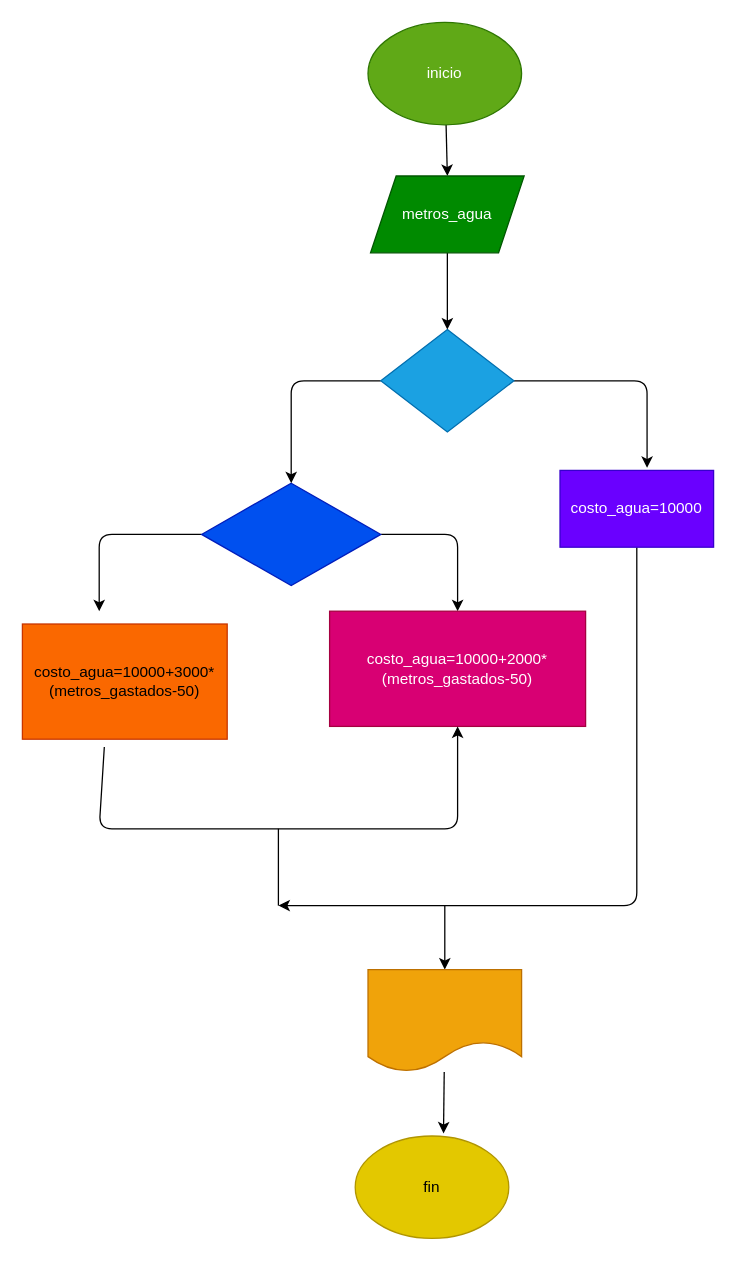
The diagram is 736 pixels wide and 1261 high, and some of its shapes have lost their labels. The box of each missing label's shape, as (x1, y1, x2, y2) in pixels:
costo_agua: (367, 968, 522, 1072)
costo_agua<=50: (380, 328, 514, 432)
metros_gastados<=200: (200, 482, 381, 586)
